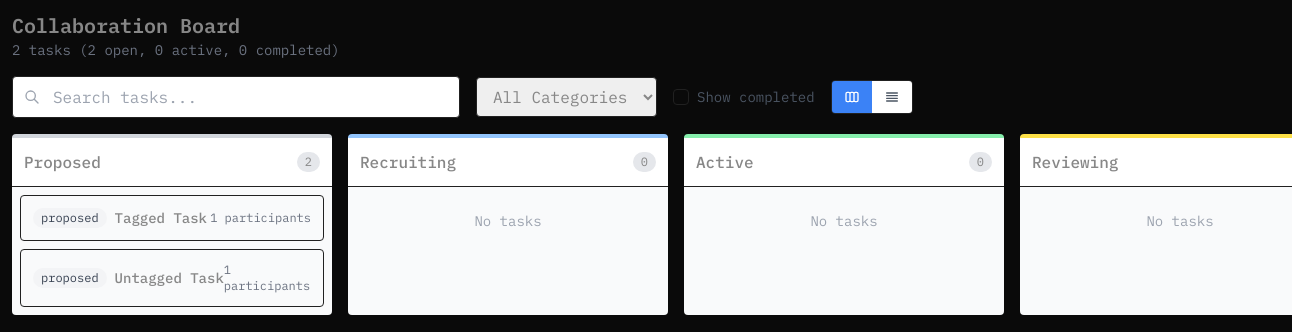
Test: CollaborationBoard › Filtering › should search in tags
The image size is (1292, 332).
Type "important" into the field with placeholder "Search tasks..." at [236, 97], box [12,76,460,118]
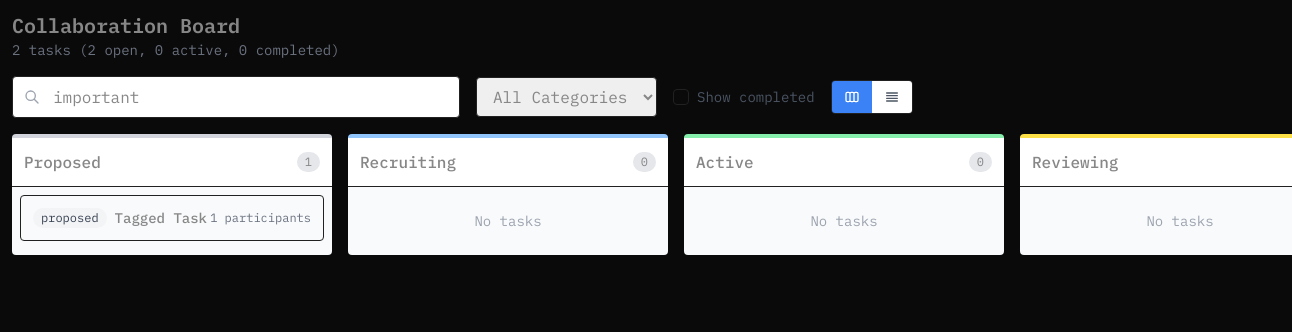
Expected: the heading "Tagged Task" is shown, [115,208,207,228]
Expected: the button "Untagged Task" is gone
